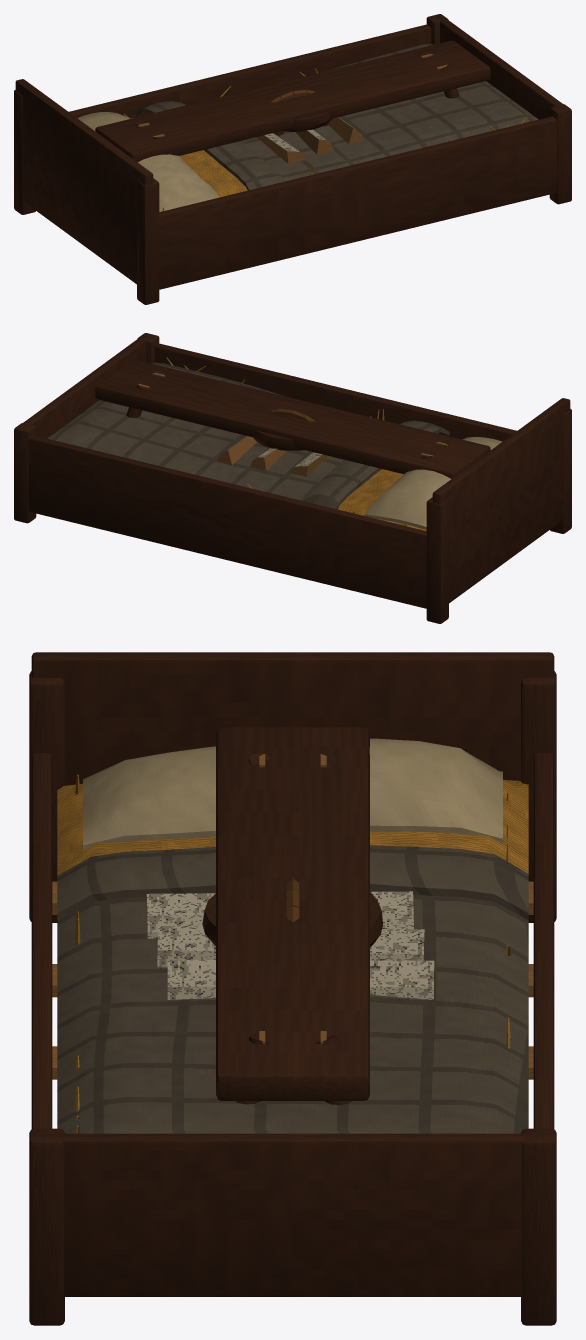
The model's file is household_furniture_kit.glb.
3 renders of one model, top to bottom at view 1: azimuth 30°, elevation 25°; view 2: azimuth 150°, elevation 25°; view 3: azimuth 270°, elevation 25°, orthographic. The views are drawn at different scales.
Visible parts, largest first — view 1: SideBoard-1, Seat, EndBoard-1, Blanket, SideBoard1, EndBoard1, Bolster, Post-1-1, BlanketFold, Post1-1, StrawTick, Post-11 (+4 smaller); view 2: SideBoard1, Seat, EndBoard-1, Blanket, SideBoard-1, EndBoard1, Bolster, Post-11, BlanketFold, Post11, StrawTick, Post-1-1 (+4 smaller); view 3: EndBoard1, Blanket, Seat, EndBoard-1, Bolster, BlanketFold, SideBoard1, SideBoard-1, StrawTick, Post11, Post1-1, Log11 (+5 smaller).
Part boxes in pixels (<box>): SideBoard-1: <box>159,116,557,289</box>; Seat: <box>95,40,490,162</box>; EndBoard-1: <box>15,79,153,284</box>; Blanket: <box>241,43,538,181</box>; SideBoard1: <box>69,24,431,118</box>; EndBoard1: <box>435,14,567,119</box>; Bolster: <box>77,112,219,211</box>; Post-1-1: <box>137,178,159,304</box>; BlanketFold: <box>136,101,283,190</box>; Post1-1: <box>549,104,571,204</box>; StrawTick: <box>130,118,247,197</box>; Post-11: <box>14,90,35,214</box>; SideBoard1: <box>28,435,426,608</box>; Seat: <box>95,359,490,478</box>; EndBoard-1: <box>432,398,570,603</box>; Blanket: <box>47,362,343,500</box>; SideBoard-1: <box>154,343,516,441</box>; EndBoard1: <box>18,333,150,438</box>; Bolster: <box>364,437,502,530</box>; Post-11: <box>426,497,448,623</box>; BlanketFold: <box>302,420,449,509</box>; Post11: <box>14,423,36,523</box>; StrawTick: <box>338,469,426,530</box>; Post-1-1: <box>550,409,571,533</box>; EndBoard1: <box>35,1133,549,1296</box>; Blanket: <box>57,891,528,1133</box>; Seat: <box>216,727,369,1100</box>; EndBoard-1: <box>31,652,554,785</box>; Bolster: <box>83,738,502,850</box>; BlanketFold: <box>57,845,528,920</box>; SideBoard1: <box>533,753,554,1129</box>; SideBoard-1: <box>31,753,52,1129</box>; StrawTick: <box>57,780,528,875</box>; Post11: <box>521,1128,556,1325</box>; Post1-1: <box>29,1128,64,1325</box>; Log11: <box>167,960,434,999</box>.
Size of the model in its own units: 1.93 by 0.56 by 1.03.
Materials: 8 (8 with a texture image).
